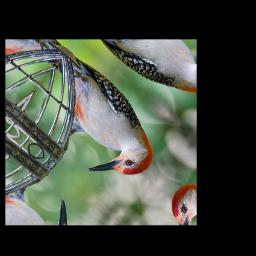Woodpecker: (19, 48, 175, 198)
